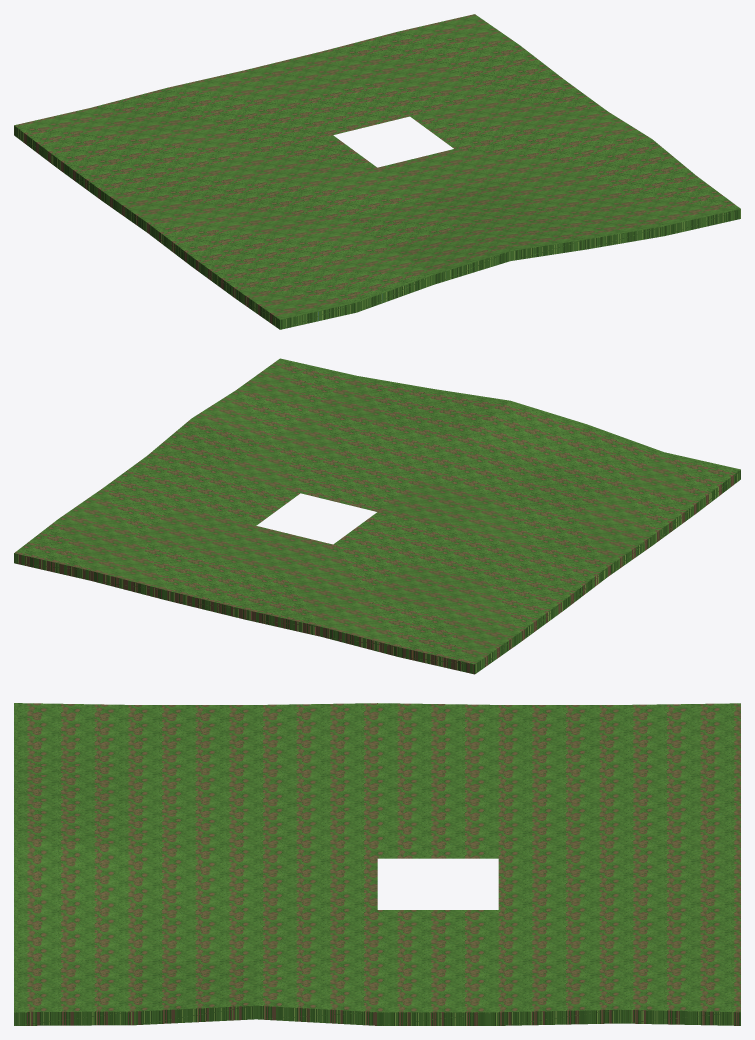
File: rv_terrain_00_lod3.gltf
3 views of the same model, one above another, from view 1: azimuth 30°, elevation 25°; view 2: azimuth 150°, elevation 25°; view 3: azimuth 270°, elevation 25° (orthographic). The views are drawn at different scales.
Parts seen in each view (by area): view 1: RV_Terrain_00_lod3; view 2: RV_Terrain_00_lod3; view 3: RV_Terrain_00_lod3.
Part boxes in pixels (x1=…): RV_Terrain_00_lod3: x1=14, y1=14, x2=740, y2=329; RV_Terrain_00_lod3: x1=14, y1=358, x2=740, y2=674; RV_Terrain_00_lod3: x1=14, y1=703, x2=740, y2=1025.
Bounding box in the file's own units: 72 × 3.59 × 72.
Materials: 2 (1 with a texture image).
